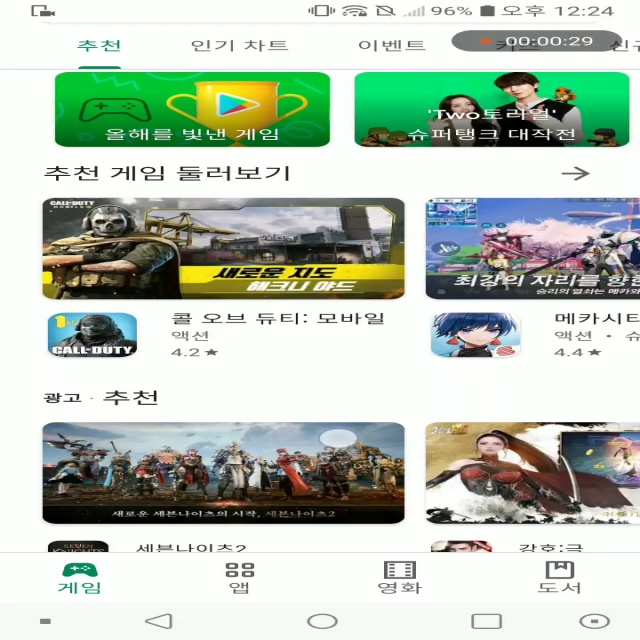Cursor: (317, 428, 361, 450)
